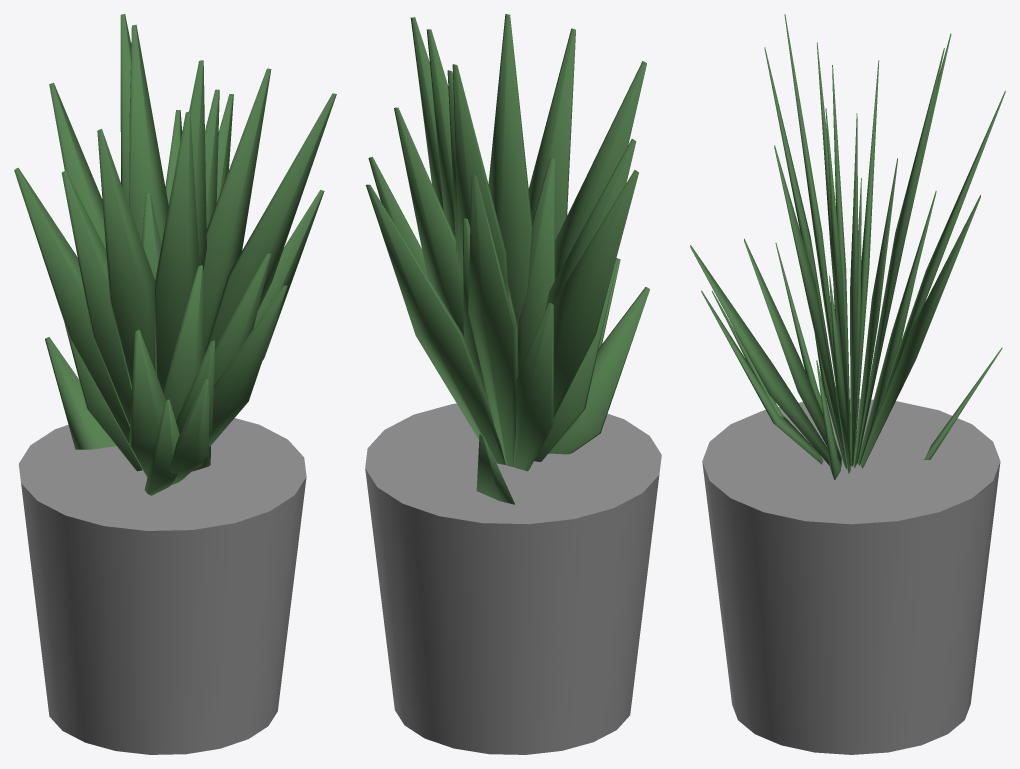
Rendered from plant_pot.glb.
The picture shows the model from 3 angles, left to right: view 1: azimuth 30°, elevation 25°; view 2: azimuth 150°, elevation 25°; view 3: azimuth 270°, elevation 25°; orthographic projection. The views are drawn at different scales.
Visible parts, largest first — view 1: Pot, Leaves; view 2: Pot, Leaves; view 3: Pot, Leaves.
Part boxes in pixels (x1,y1,x2,y2): Pot: (18, 418, 306, 754); Leaves: (14, 14, 336, 495); Pot: (365, 403, 661, 754); Leaves: (366, 14, 649, 504); Pot: (702, 398, 1000, 754); Leaves: (690, 14, 1005, 479).
Bounding box in the file's own units: 0.5713 × 1.25 × 0.5289.
